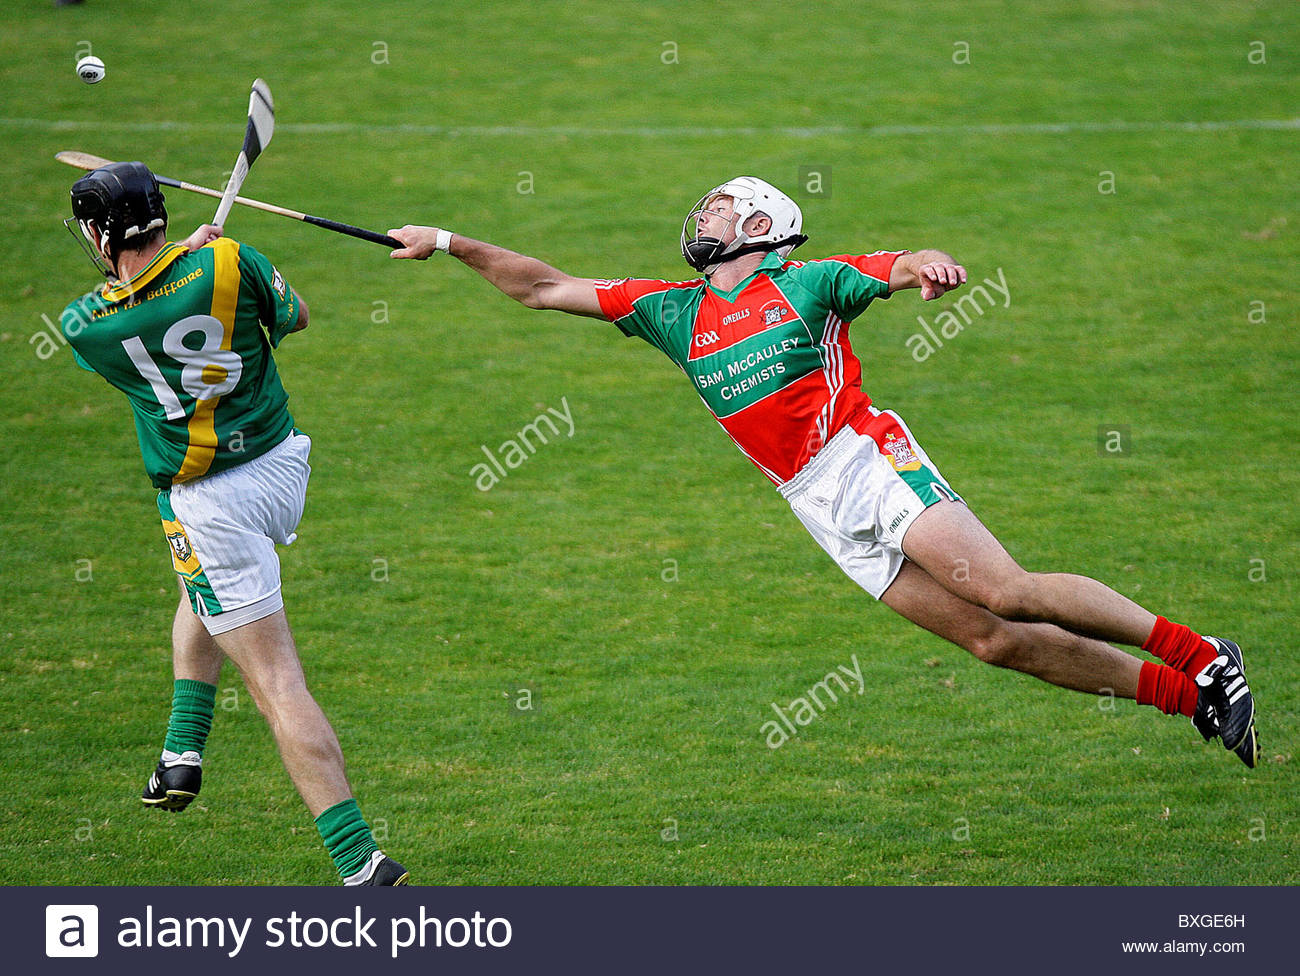hurley: (52, 143, 441, 260), (194, 75, 291, 237)
